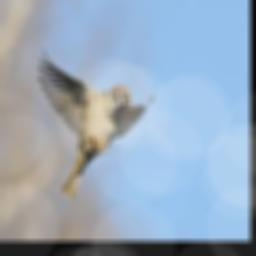Sparrow: (39, 48, 155, 199)
